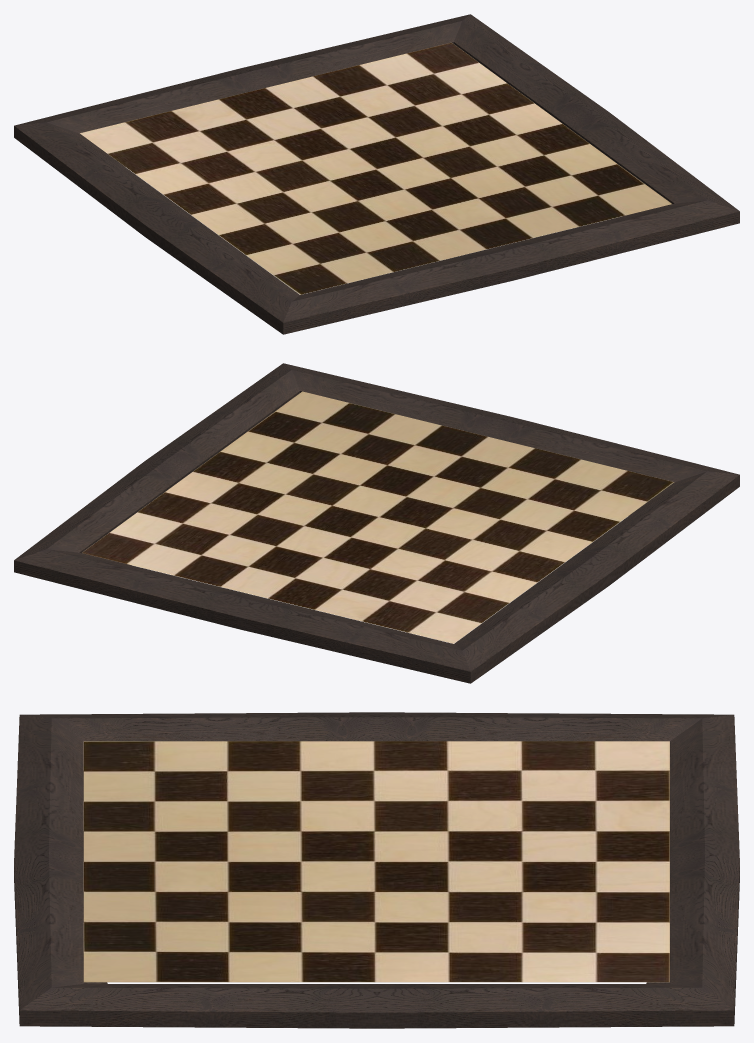
The model's file is the_final_solution.fbx.
3 renders of one model, top to bottom at view 1: azimuth 30°, elevation 25°; view 2: azimuth 150°, elevation 25°; view 3: azimuth 270°, elevation 25°, orthographic. The views are drawn at different scales.
Visible parts, largest first — view 1: Board, Border; view 2: Board, Border; view 3: Board, Border.
Part boxes in pixels (x1,y1,x2,y2): Board: (80,42,671,294); Border: (14,14,739,334); Board: (82,391,674,643); Border: (14,363,739,683); Board: (83,741,669,982); Border: (14,712,739,1028).
Bounding box in the file's own units: 975 × 86.71 × 996.
